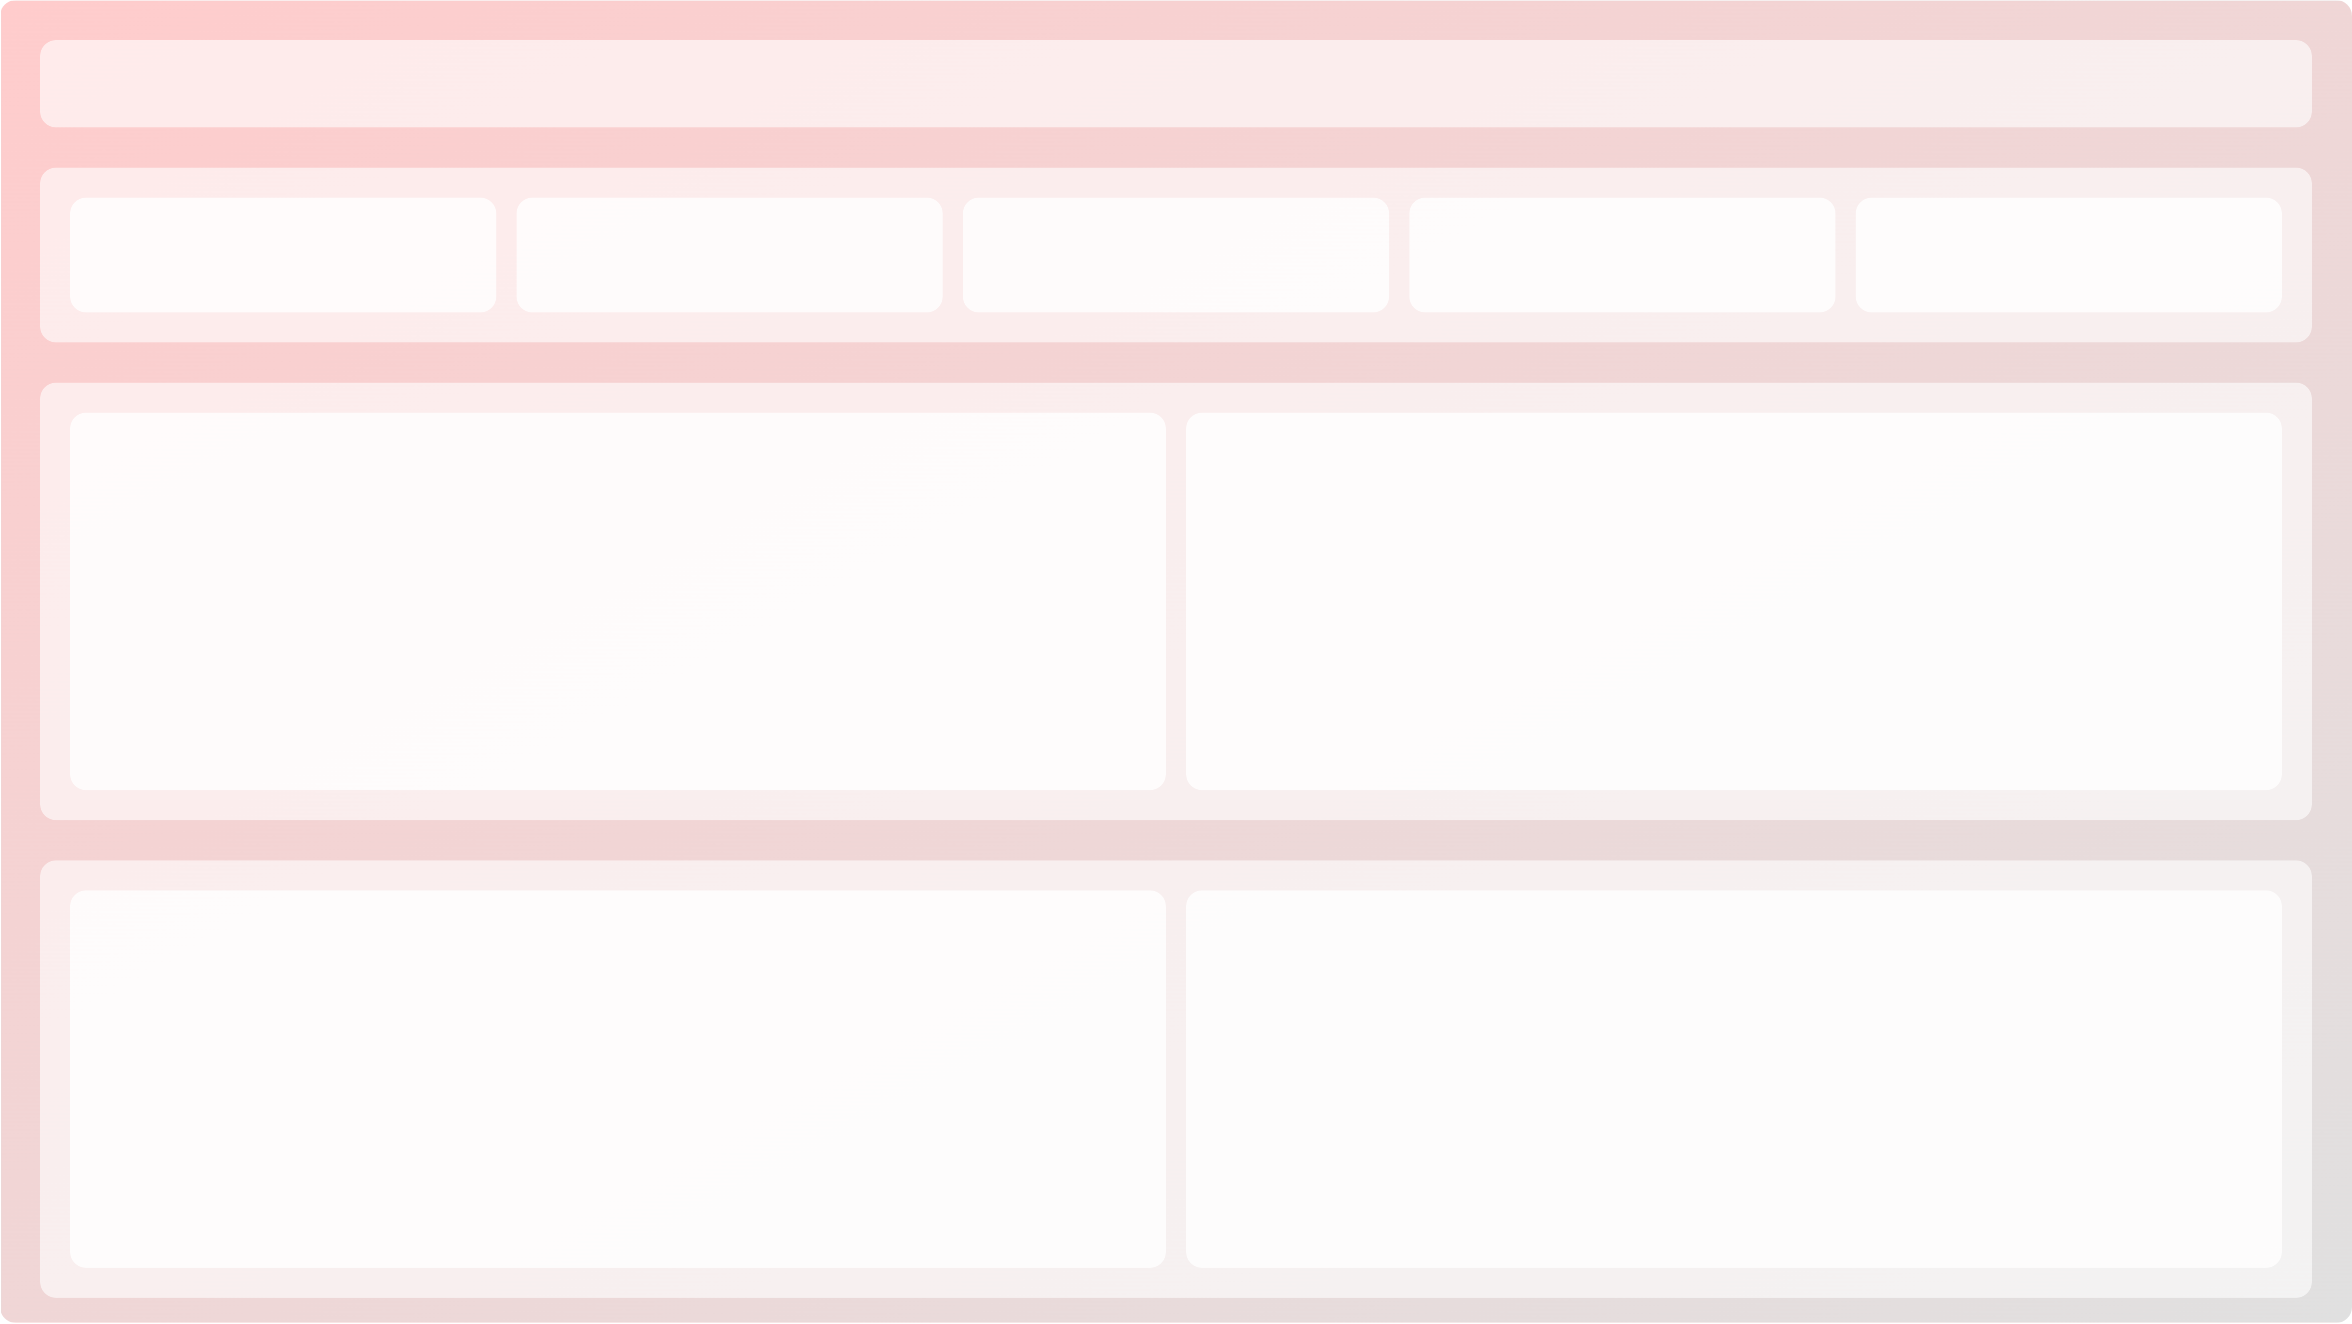

The page's visual inventory and layout, read from the dashboard file:
{"tool":"powerbi","page":{"name":"Sales Trends","canvas":[1280,720],"ordinal":1},"visuals":[{"type":"lineChart","fields":{"Category":["Calender.Start of Month"],"Y":["_All Measures.Total Sales"]},"box":[21.7,206.7,615,231.7],"z":0},{"type":"slicer","fields":{"Values":["Calender.Date"]},"box":[1006.7,88.3,246.7,96.7],"z":1000},{"type":"slicer","fields":{"Values":["SalesData.Team"]},"box":[280,101.7,230,71.7],"z":2000},{"type":"slicer","fields":{"Values":["SalesData.Segment"]},"box":[520,101.7,233.3,71.7],"z":3000},{"type":"slicer","fields":{"Values":["Customers.Region"]},"box":[768.3,101.7,223.3,71.7],"z":4000},{"type":"actionButton","box":[244.8,20.9,705.6,44.5],"z":5000},{"type":"slicer","fields":{"Values":["Period 2.Period"]},"box":[36.7,101.7,228.3,71.7],"z":6000},{"type":"lineChart","fields":{"Category":["Calender.Start of Month"],"Y":["_All Measures.Total_order"]},"box":[648.3,206.7,605,231.7],"z":7000},{"type":"lineChart","fields":{"Category":["Calender.Start of Month"],"Y":["_All Measures.Sales_Growth %"]},"box":[648.3,468.3,605,230],"z":8000},{"type":"lineChart","fields":{"Category":["Calender.Start of Month"],"Y":["_All Measures.Profit_margin %"]},"box":[21.7,468.3,620,230],"z":9000}]}

Visuals, with their boxes in screenshot pixels (x1, y1, x2, y2), scaled from the page's 1280x720 canvas onto the 2352x1324 screenshot:
lineChart - Calender.Start of Month x _All Measures.Total Sales: (left=40, top=380, right=1170, bottom=806)
slicer - Calender.Date: (left=1850, top=162, right=2303, bottom=340)
slicer - SalesData.Team: (left=514, top=187, right=937, bottom=319)
slicer - SalesData.Segment: (left=956, top=187, right=1384, bottom=319)
slicer - Customers.Region: (left=1412, top=187, right=1822, bottom=319)
actionButton: (left=450, top=38, right=1746, bottom=120)
slicer - Period 2.Period: (left=67, top=187, right=487, bottom=319)
lineChart - Calender.Start of Month x _All Measures.Total_order: (left=1191, top=380, right=2303, bottom=806)
lineChart - Calender.Start of Month x _All Measures.Sales_Growth %: (left=1191, top=861, right=2303, bottom=1284)
lineChart - Calender.Start of Month x _All Measures.Profit_margin %: (left=40, top=861, right=1179, bottom=1284)
